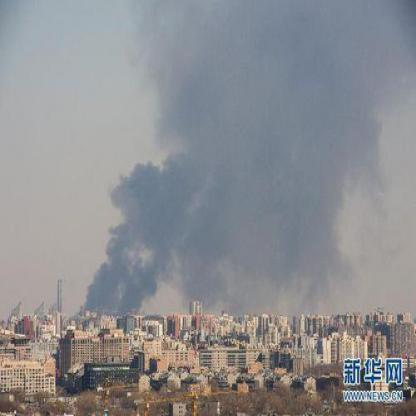smoke: (104, 160, 188, 252), (86, 256, 154, 306)
